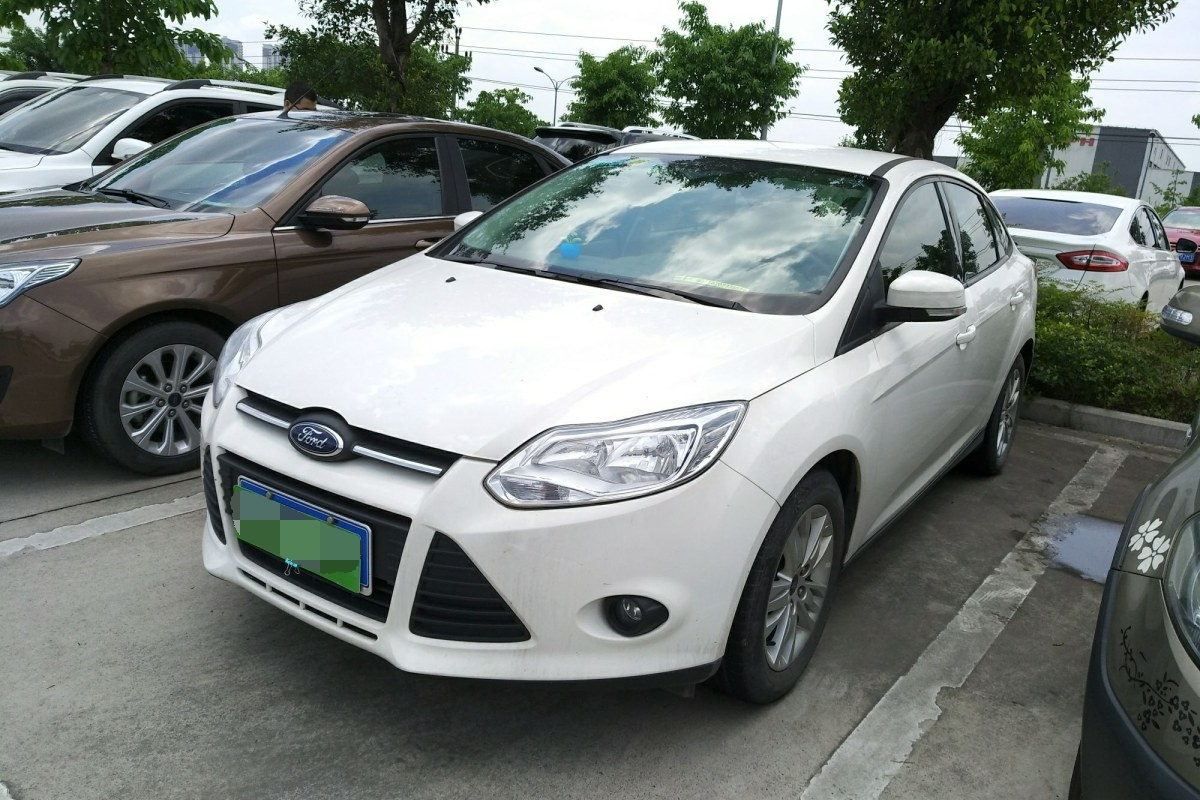family sedan: (207, 129, 1060, 676), (8, 120, 571, 409)
